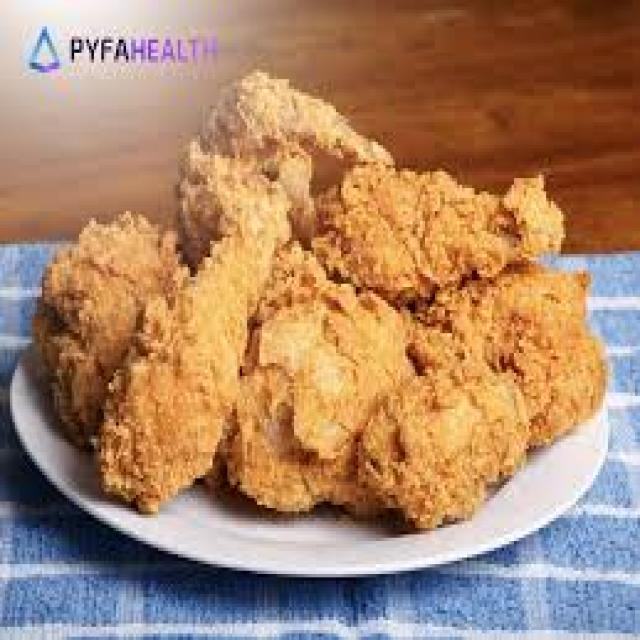ayam_goreng: (34, 66, 612, 524), (108, 202, 253, 497), (318, 153, 562, 297)
